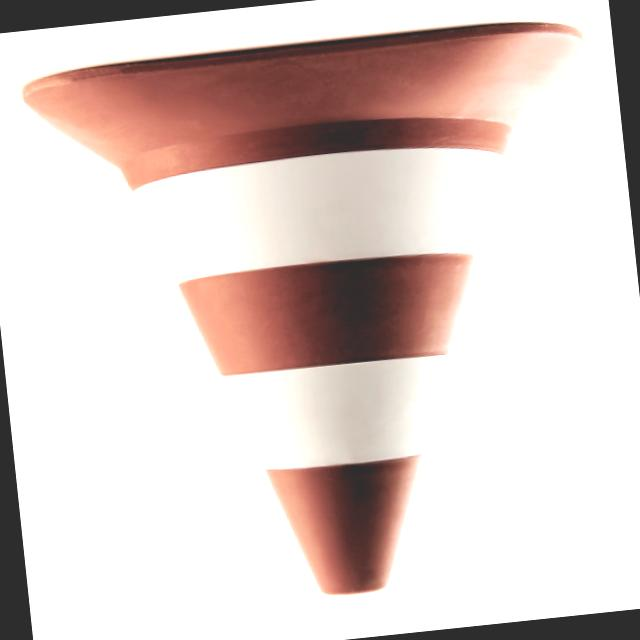cone: (4, 3, 640, 632)
